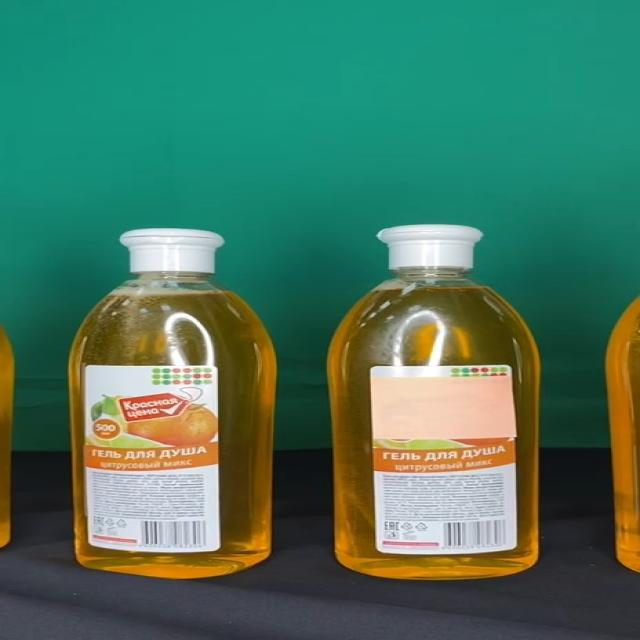Bottle: (326, 224, 542, 580), (68, 228, 278, 580)
Cap: (378, 224, 483, 268), (119, 229, 225, 272)
